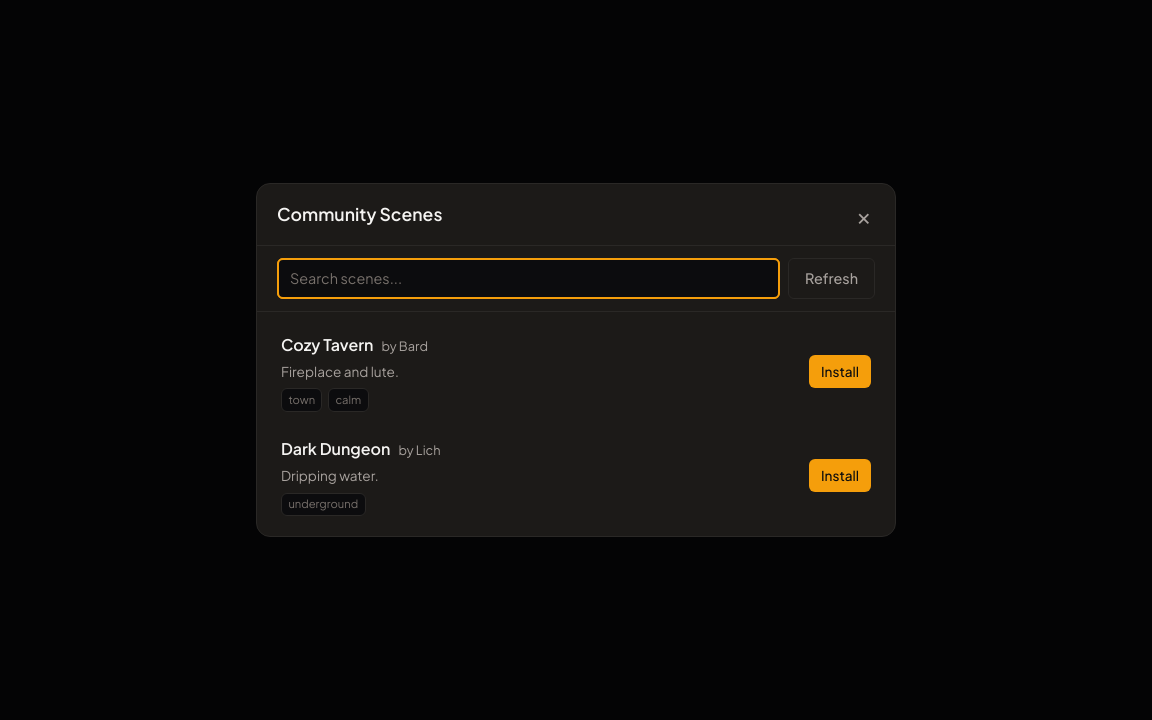
it: registryBrowser › search › says so when nothing matches
The width and height of the screenshot is (1152, 720).
Type "spaceship" into the field with class "registry-search" at {"x": 529, "y": 278}, box [277,258,780,298]
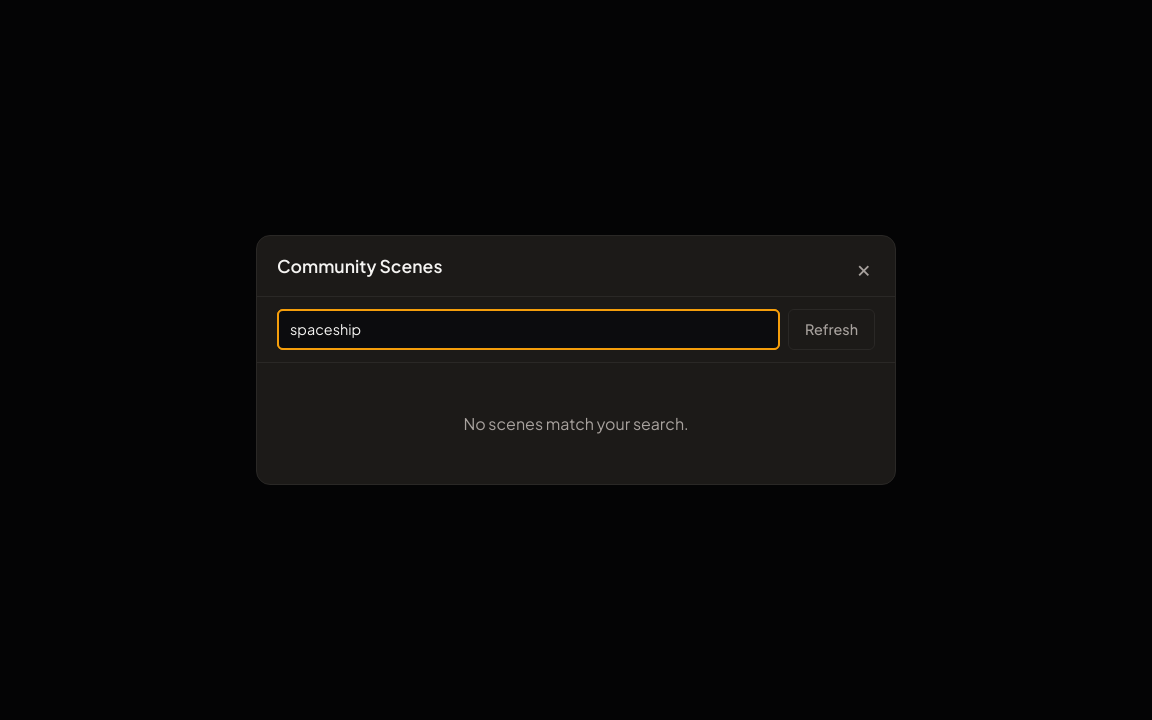
Result: the text "No scenes match your search." is shown at [463,413,689,434]
